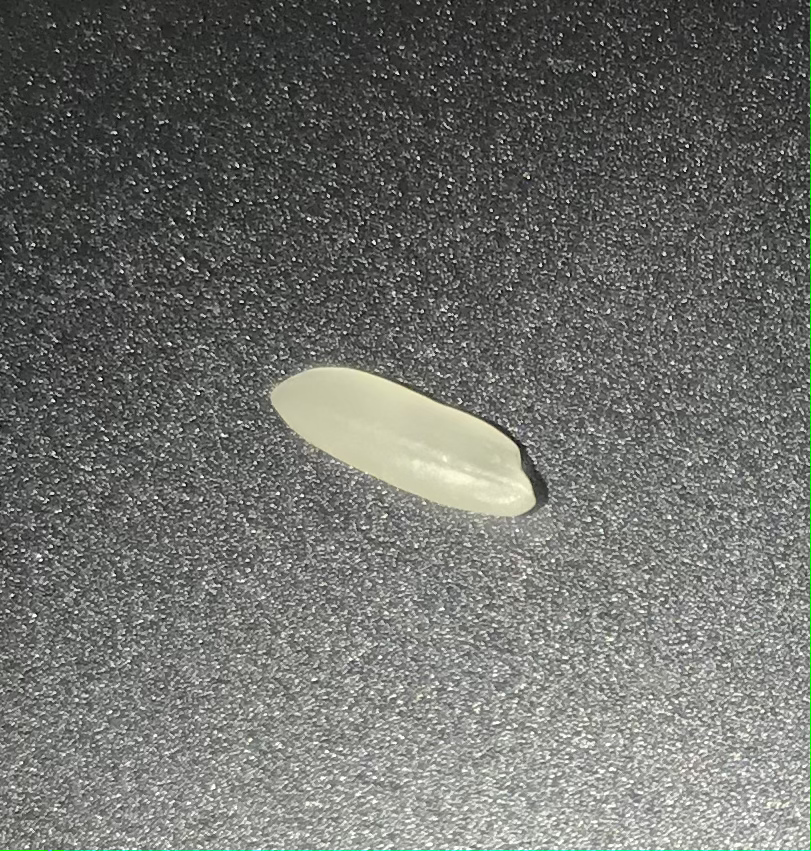Gao Thom My: (246, 339, 556, 531)
